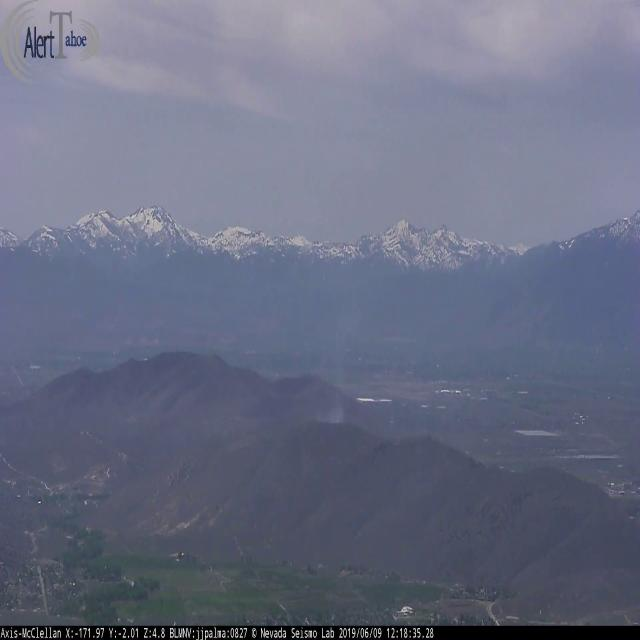smoke: (313, 283, 368, 427)
